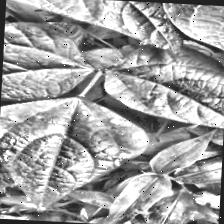Bean Rust: (0, 91, 149, 212), (99, 44, 224, 133), (0, 20, 98, 111), (155, 2, 224, 95)
